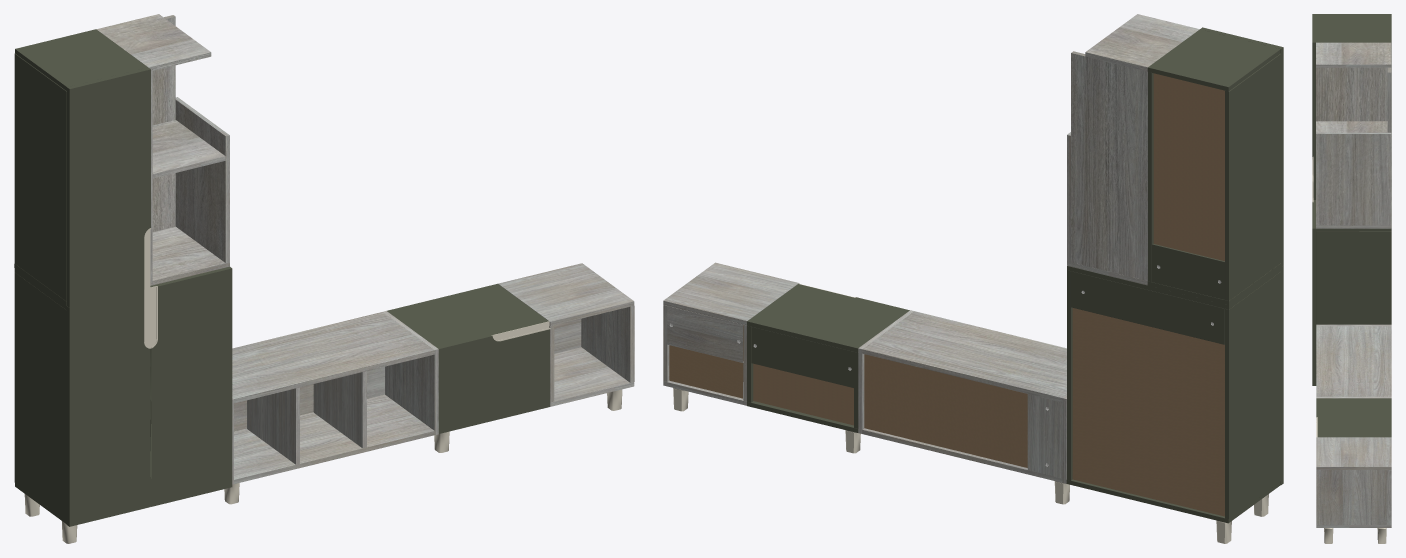
3 views of the same model, side by side, from view 1: azimuth 30°, elevation 25°; view 2: azimuth 150°, elevation 25°; view 3: azimuth 270°, elevation 25° (orthographic). The views are drawn at different scales.
Parts seen in each view (by area): view 1: Cube.003, Cube.005, Cube.007, group_0.145, group_0.094, Plane; view 2: Cube.003, Cube.005, group_0.144, Cube.007, group_0.151, group_0.145, group_0.150, Plane.001, group_0.094; view 3: Cube.003, Cube.007, group_0.145, Cube.005, group_0.094.
Boxes of the visible parts, x1,y1,x2,y2 form: Cube.003: (14, 29, 549, 526); Cube.005: (232, 311, 438, 484); Cube.007: (96, 14, 229, 285); group_0.145: (498, 263, 634, 406); group_0.094: (24, 228, 622, 543); Plane: (554, 318, 581, 353); Cube.003: (747, 27, 1283, 523); Cube.005: (858, 310, 1066, 483); group_0.144: (1072, 308, 1224, 516); Cube.007: (1067, 14, 1199, 285); group_0.151: (1153, 73, 1224, 261); group_0.145: (663, 262, 799, 405); group_0.150: (753, 363, 853, 425); Plane.001: (669, 325, 743, 398); group_0.094: (673, 283, 1268, 543); Cube.003: (1312, 14, 1391, 437); Cube.007: (1316, 42, 1391, 228); group_0.145: (1316, 437, 1391, 527); Cube.005: (1316, 324, 1391, 398); group_0.094: (1312, 156, 1386, 543).
Size of the model in its own units: 2.44 by 1.9 by 0.4118.
15 materials, 9 textured.
